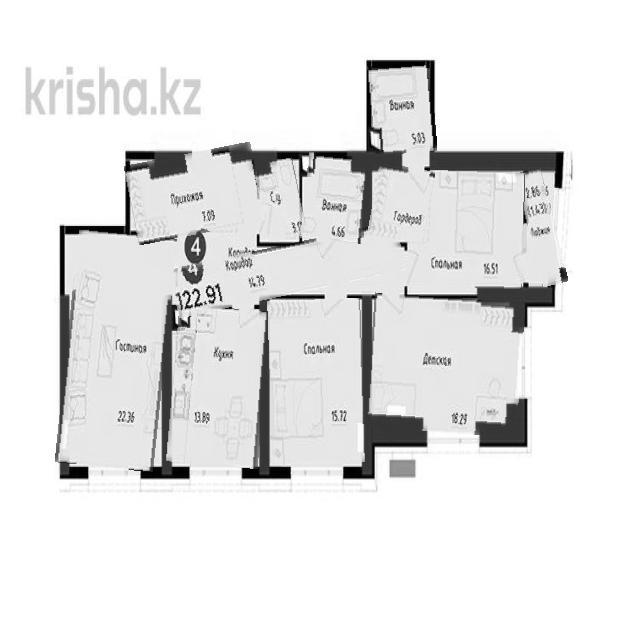balcony: (521, 168, 562, 287)
bathroom: (302, 154, 369, 243), (257, 159, 304, 240)
hallway: (171, 233, 405, 306), (127, 147, 262, 240)
kitchen: (169, 306, 268, 467)
living_room: (60, 231, 171, 470), (368, 295, 523, 434), (269, 299, 364, 465), (427, 171, 525, 289)
other: (369, 63, 436, 155), (370, 164, 433, 241)
